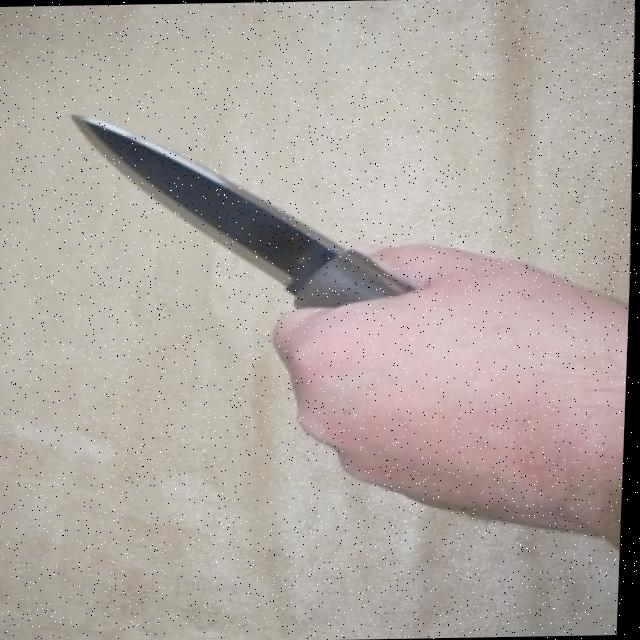knife: (66, 105, 383, 302)
